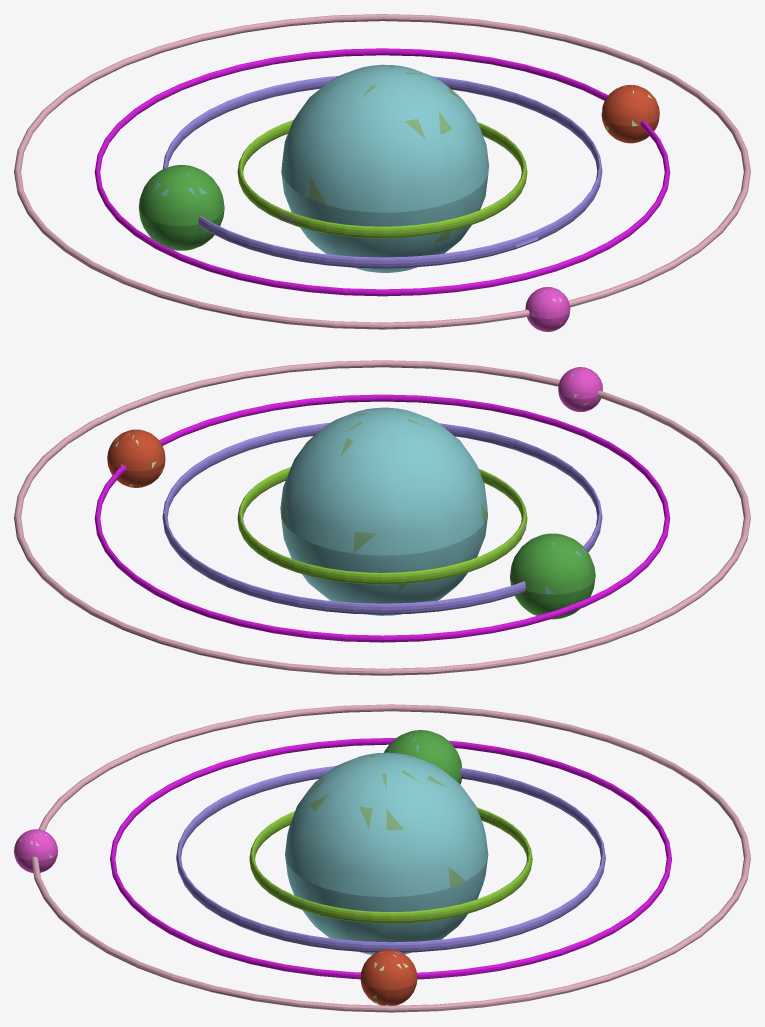
File: knit-circles.fbx
3 views of the same model, one above another, from view 1: azimuth 30°, elevation 25°; view 2: azimuth 150°, elevation 25°; view 3: azimuth 270°, elevation 25° (orthographic). The views are drawn at different scales.
Parts seen in each view (by area): view 1: polySurface2929; view 2: polySurface2929; view 3: polySurface2929.
Part boxes in pixels (left/top/right/bottom): polySurface2929: left=14, top=14, right=750, bottom=331; polySurface2929: left=14, top=360, right=750, bottom=675; polySurface2929: left=14, top=704, right=750, bottom=1012.
Size of the model in its own units: 480 by 136 by 492.
